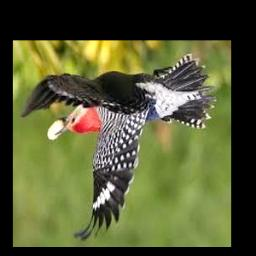Woodpecker: (20, 54, 217, 241)
